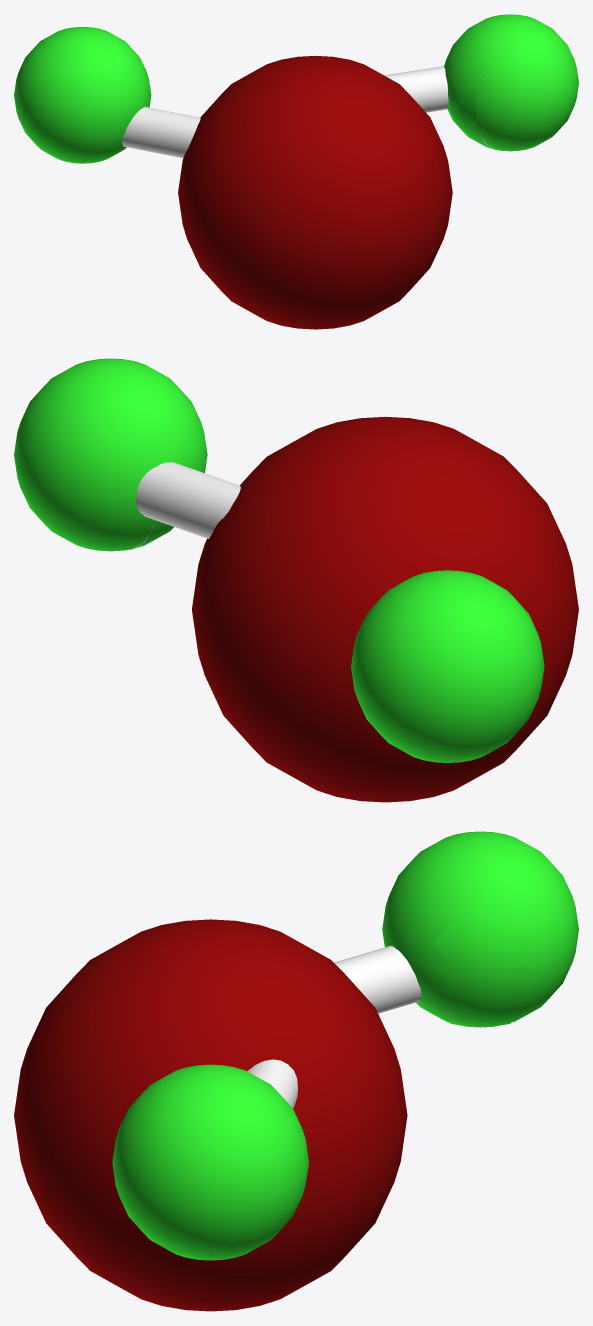
3 renders of one model, top to bottom at view 1: azimuth 30°, elevation 25°; view 2: azimuth 150°, elevation 25°; view 3: azimuth 270°, elevation 25°, orthographic. The views are drawn at different scales.
Parts seen in each view (by area): view 1: Model; view 2: Model; view 3: Model.
Boxes of the visible parts, x1,y1,x2,y2 form: Model: [14, 14, 578, 329]; Model: [14, 358, 578, 802]; Model: [14, 831, 578, 1311].
Bounding box in the file's own units: 3.8 × 2 × 2.87.
